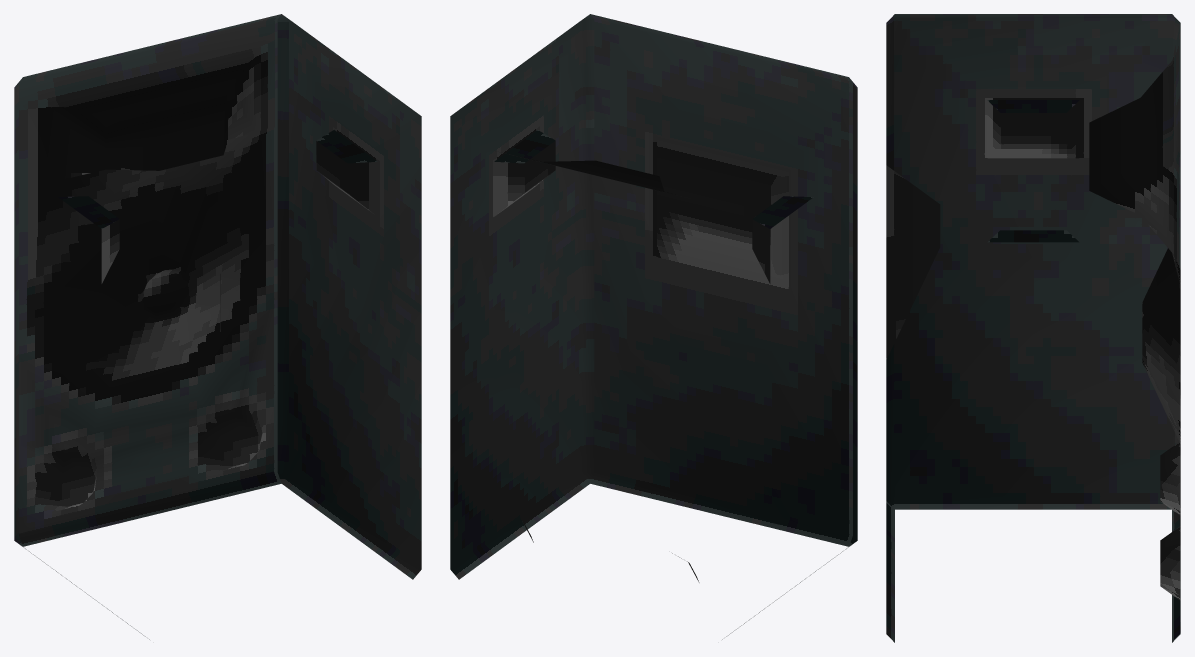
File: ps2_save-icons_bboy.glb
3 renders of one model, left to right at view 1: azimuth 30°, elevation 25°; view 2: azimuth 150°, elevation 25°; view 3: azimuth 270°, elevation 25°, orthographic. The views are drawn at different scales.
Parts seen in each view (by area): view 1: LIST.ICO; view 2: LIST.ICO; view 3: LIST.ICO.
Part boxes in pixels (<box>): LIST.ICO: <box>14,14,421,639</box>; LIST.ICO: <box>450,14,857,639</box>; LIST.ICO: <box>886,14,1180,642</box>.
Size of the model in its own units: 2.64 by 4.28 by 2.3.
1 material, 1 textured.
